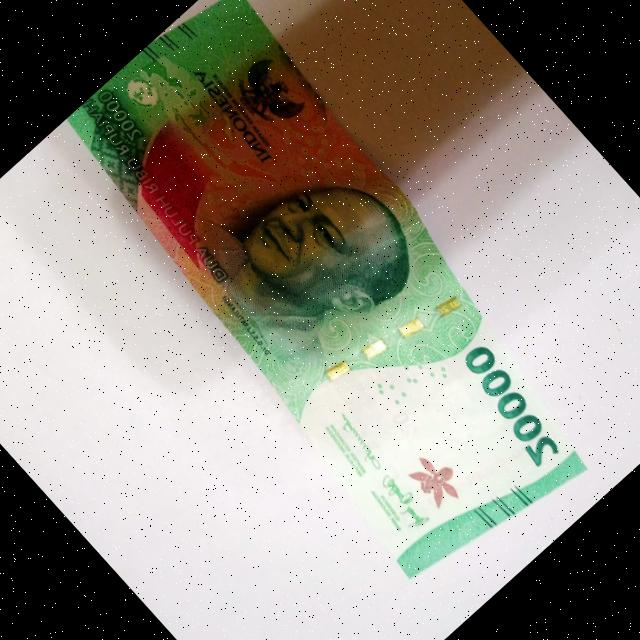20K: (27, 0, 640, 616)
